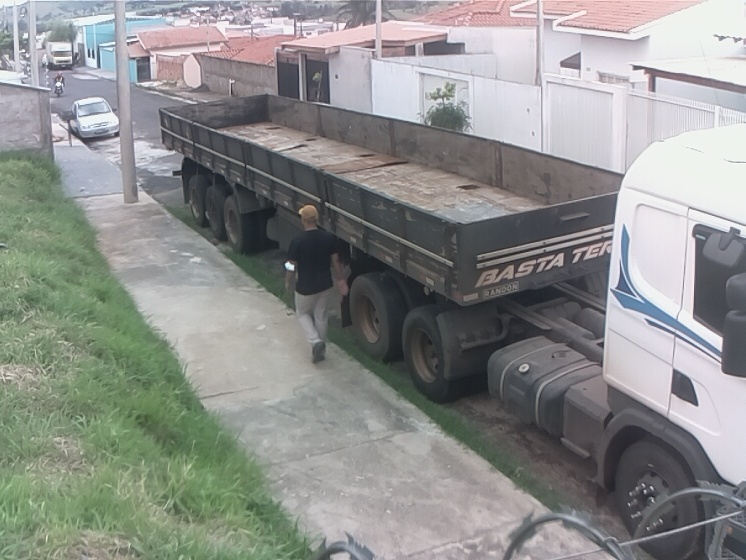person: (282, 203, 354, 367)
